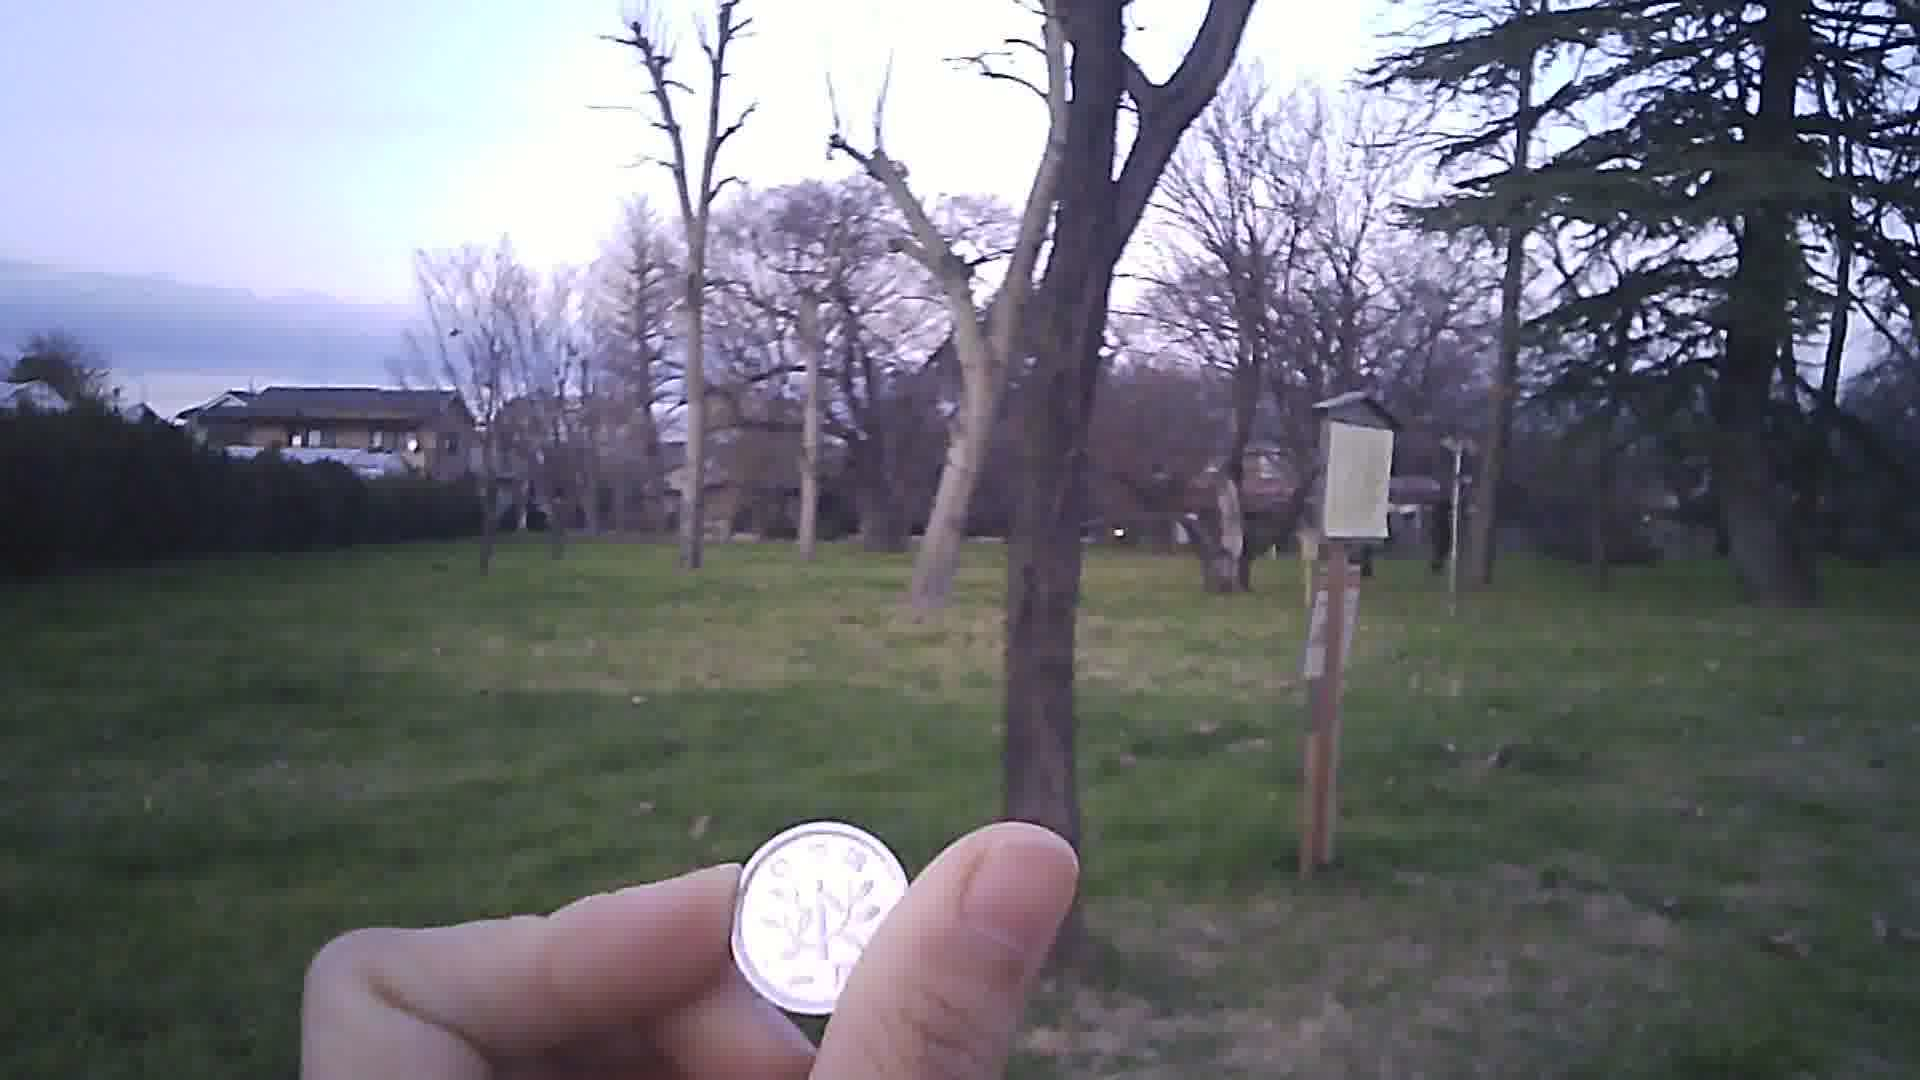1 Yen: (715, 814, 934, 1022)
